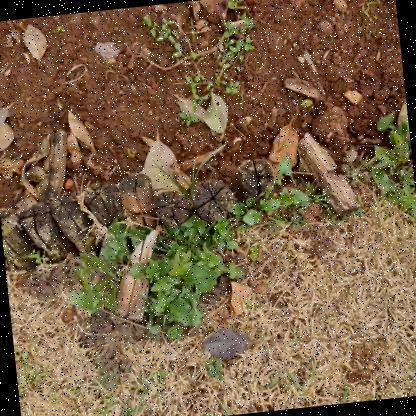Weeds: (53, 153, 321, 350), (141, 0, 266, 137), (365, 108, 415, 224)
